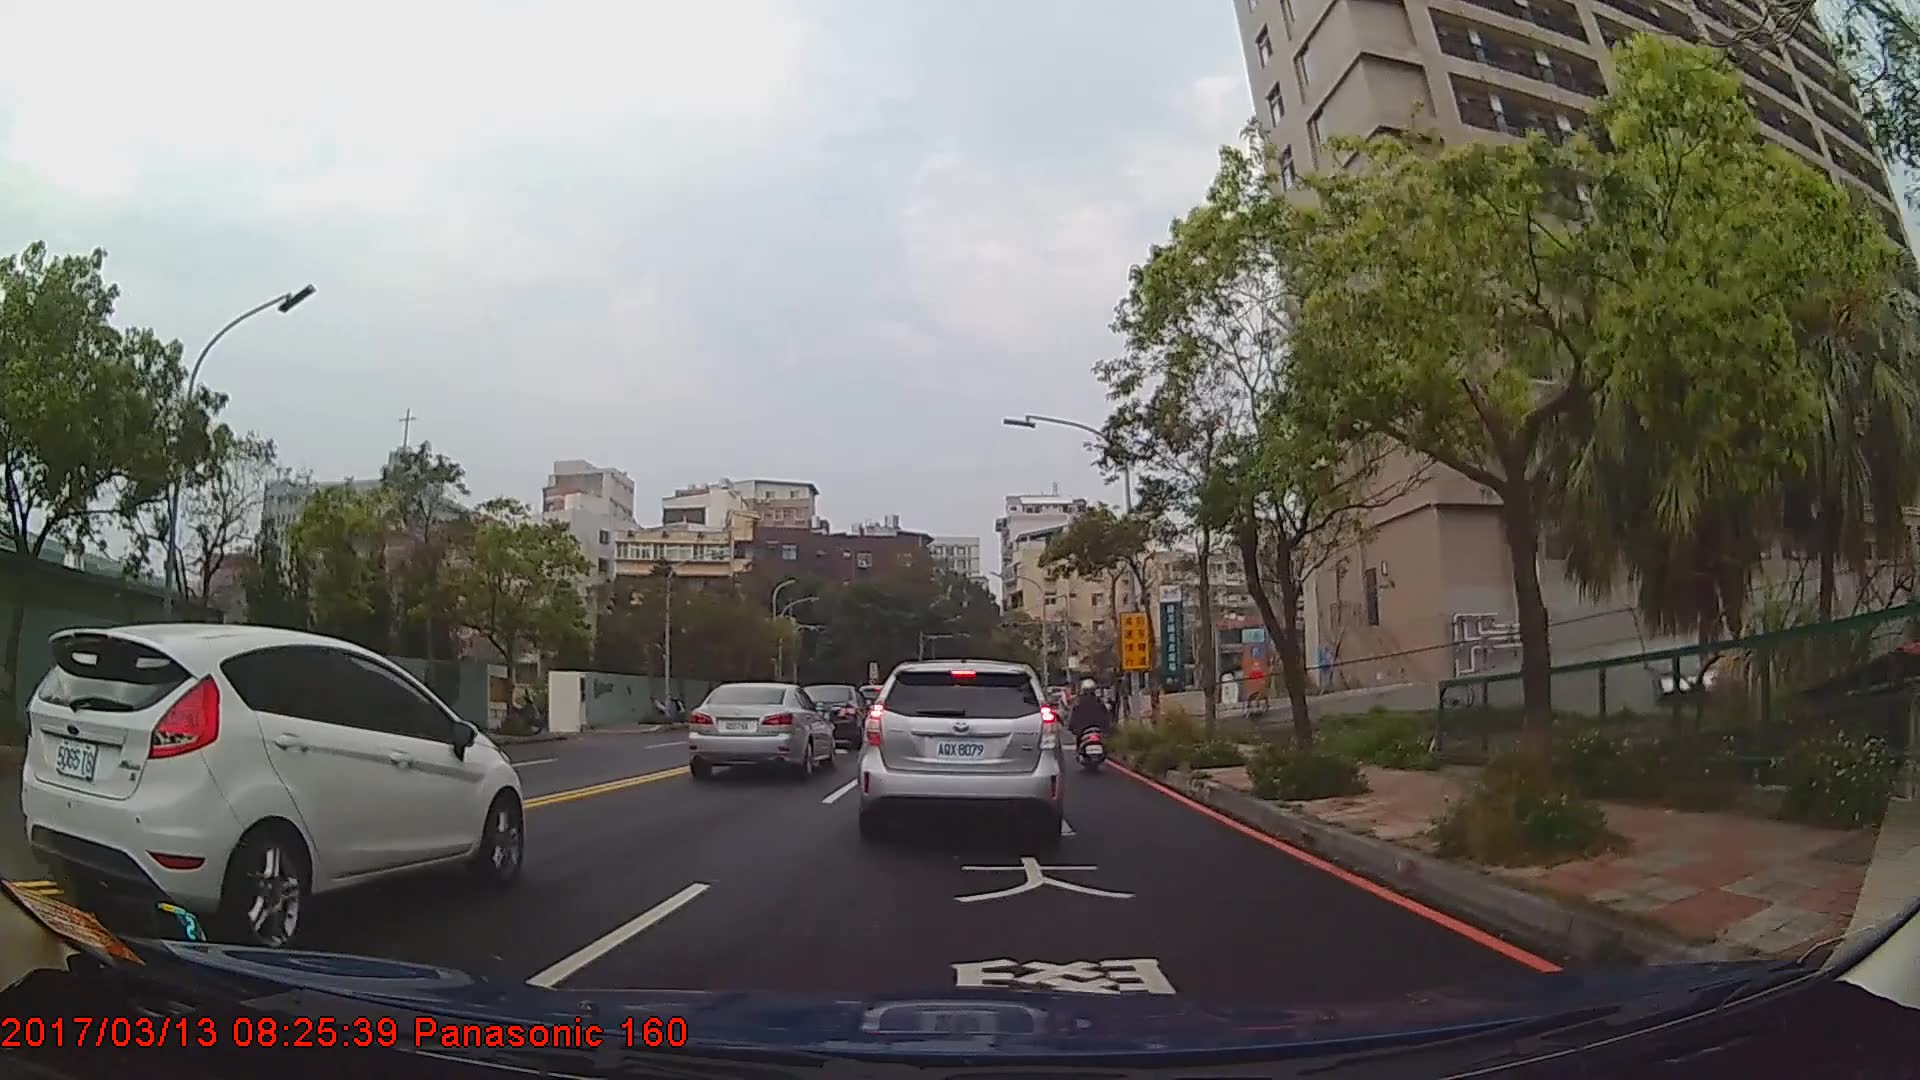rider: (1071, 680, 1112, 779)
vehicle: (20, 624, 524, 953), (856, 658, 1064, 840), (681, 680, 834, 780), (791, 683, 870, 747)
